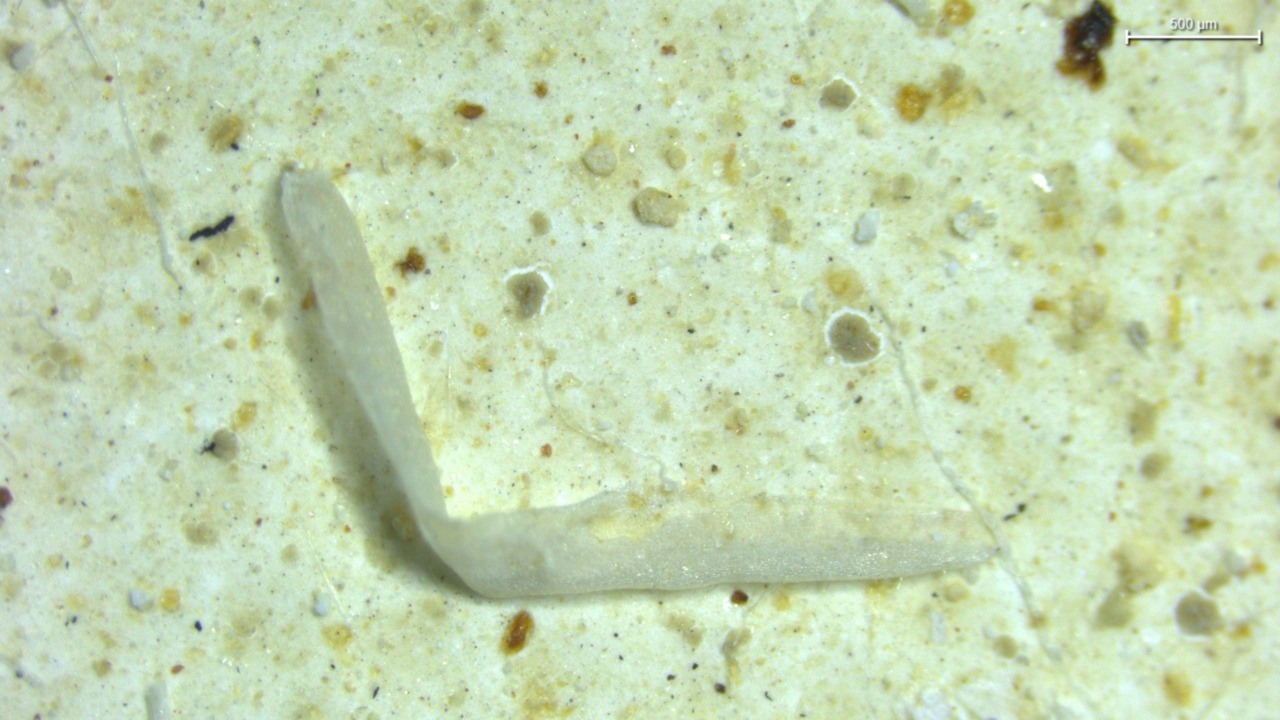microplastic_fragment: (281, 171, 1000, 597), (633, 187, 688, 227), (582, 144, 617, 175), (853, 210, 879, 244), (313, 592, 332, 616)
